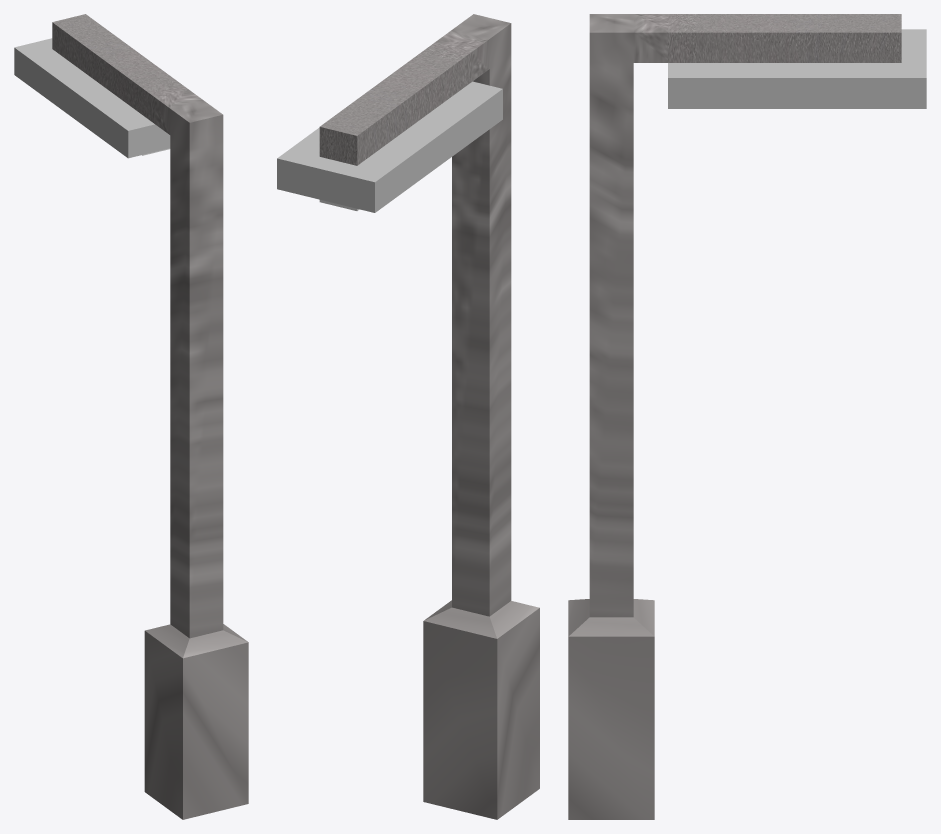
File: light.fbx
3 renders of one model, left to right at view 1: azimuth 30°, elevation 25°; view 2: azimuth 150°, elevation 25°; view 3: azimuth 270°, elevation 25°, orthographic. The views are drawn at different scales.
Parts seen in each view (by area): view 1: Cube; view 2: Cube; view 3: Cube.
Part boxes in pixels (x1,y1,x2,y2): Cube: (14,14,248,819); Cube: (277,14,539,819); Cube: (568,14,926,819).
Size of the model in its own units: 80.17 by 601 by 250.
